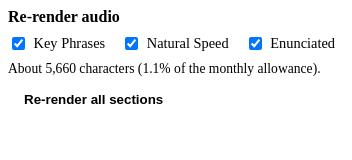
Test: RerenderAudio › with nothing ticked, says so and will not render or price an empty set
Click the checkbox labelled "Key Phrases".
click(18, 44)  # box [12,37,25,50]
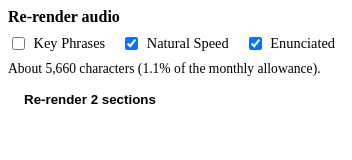
Click the checkbox labelled "Natural Speed".
click(132, 44)  # box [125,37,138,50]
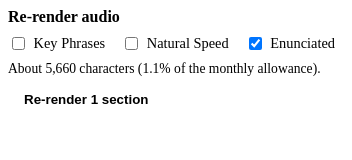
Click the checkbox labelled "Enunciated".
click(255, 44)  # box [249,37,262,50]
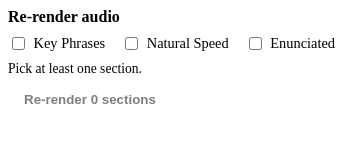
Expected: the button "Re-render 0 sections" is disabled, [8,85,172,114]
Expected: the text "Pick at least one section." is shown, [8,61,142,76]
